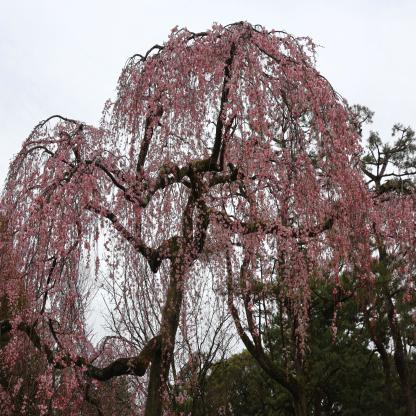ShidareZakura: (0, 21, 416, 416)
